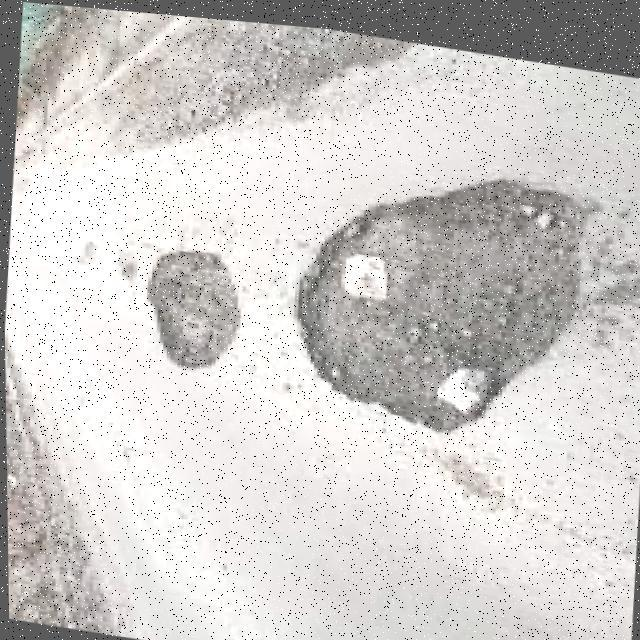pothole: (268, 130, 613, 447), (128, 234, 248, 371)
